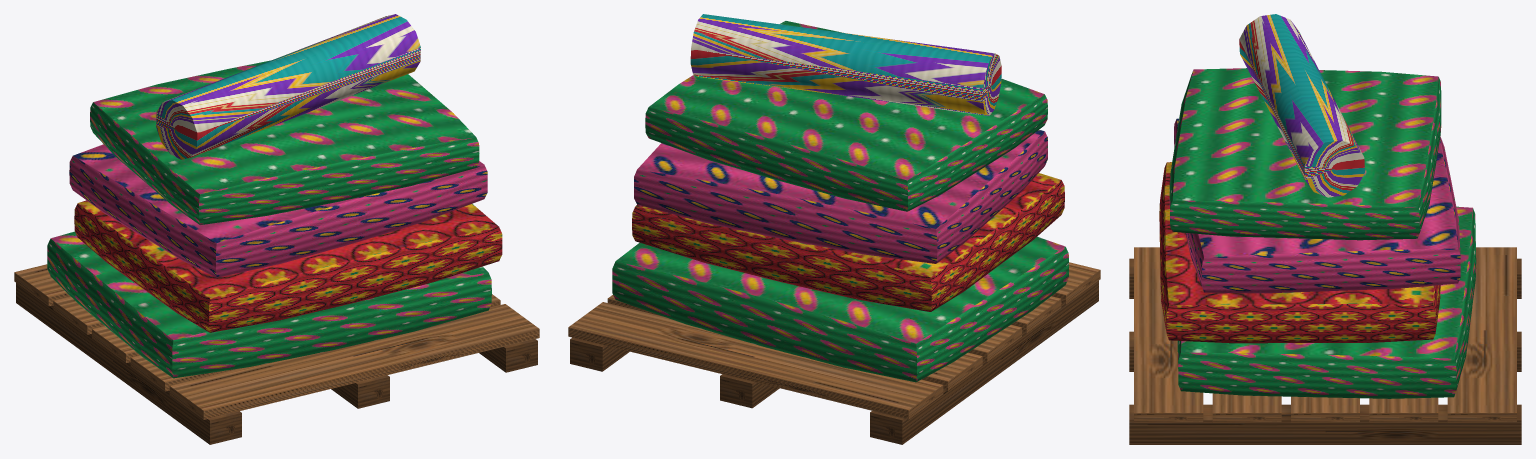
Rendered from mkt_soft_fabric.glb.
3 renders of one model, left to right at view 1: azimuth 30°, elevation 25°; view 2: azimuth 150°, elevation 25°; view 3: azimuth 270°, elevation 25°, orthographic.
Visible parts, largest first — view 1: mkt_soft_fabric_body; view 2: mkt_soft_fabric_body; view 3: mkt_soft_fabric_body.
Part boxes in pixels (<box>): mkt_soft_fabric_body: <box>14,14,539,444</box>; mkt_soft_fabric_body: <box>568,14,1100,444</box>; mkt_soft_fabric_body: <box>1129,14,1521,444</box>.
Bounding box in the file's own units: 0.8443 × 0.677 × 0.84.
Materials: 1 (1 with a texture image).
